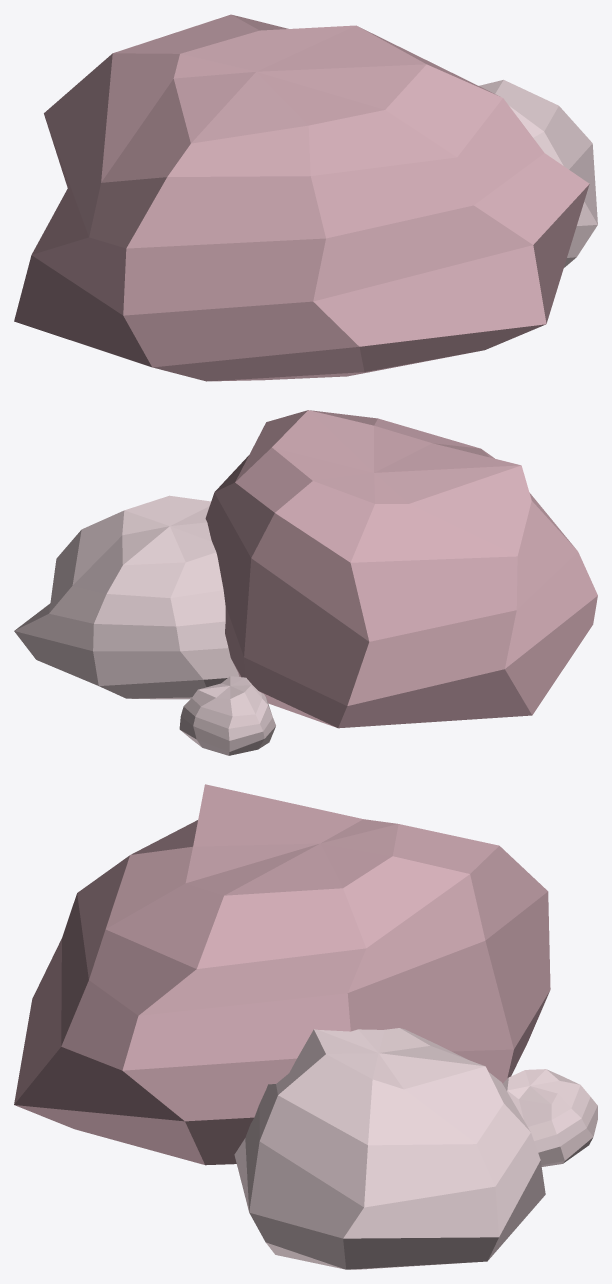
The model's file is Rocks1.fbx.
The picture shows the model from 3 angles, top to bottom: view 1: azimuth 30°, elevation 25°; view 2: azimuth 150°, elevation 25°; view 3: azimuth 270°, elevation 25°; orthographic projection. The views are drawn at different scales.
Parts seen in each view (by area): view 1: pasted__pSphere4, pasted__pSphere1; view 2: pasted__pSphere4, pasted__pSphere1, pasted__pSphere2; view 3: pasted__pSphere4, pasted__pSphere1, pasted__pSphere2.
Part boxes in pixels (x1,y1,x2,y2): pasted__pSphere4: (14, 14, 589, 381); pasted__pSphere1: (479, 79, 597, 267); pasted__pSphere4: (205, 410, 597, 728); pasted__pSphere1: (14, 495, 239, 699); pasted__pSphere2: (179, 676, 275, 755); pasted__pSphere4: (14, 784, 550, 1165); pasted__pSphere1: (234, 1028, 545, 1269); pasted__pSphere2: (503, 1069, 597, 1166).
Bounding box in the file's own units: 2.65 × 1.27 × 2.24.
